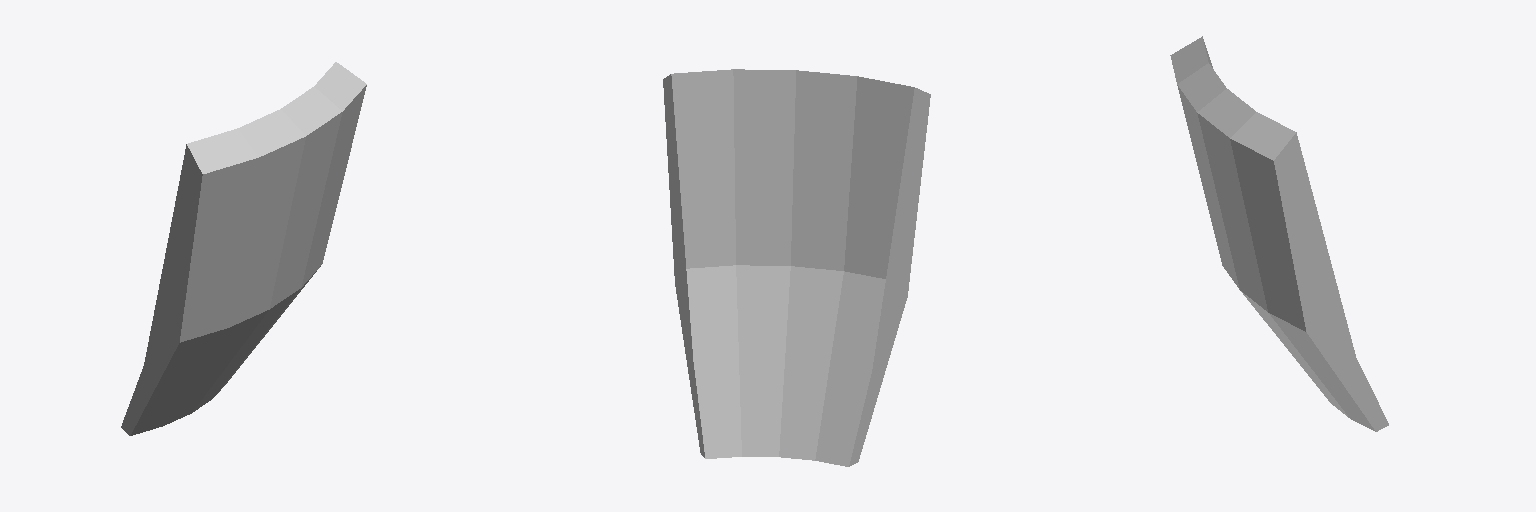
File: Level_3_4.obj
The picture shows the model from 3 angles: view 1: azimuth 30°, elevation 25°; view 2: azimuth 150°, elevation 25°; view 3: azimuth 270°, elevation 25°; orthographic projection.
Parts seen in each view (by area): view 1: Level_3_4_Cylinder.040; view 2: Level_3_4_Cylinder.040; view 3: Level_3_4_Cylinder.040.
Part boxes in pixels (bbox=[...]): Level_3_4_Cylinder.040: bbox=[121, 62, 366, 435]; Level_3_4_Cylinder.040: bbox=[663, 69, 930, 466]; Level_3_4_Cylinder.040: bbox=[1170, 36, 1388, 431].
Bounding box in the file's own units: 1.51 × 2.23 × 1.33.